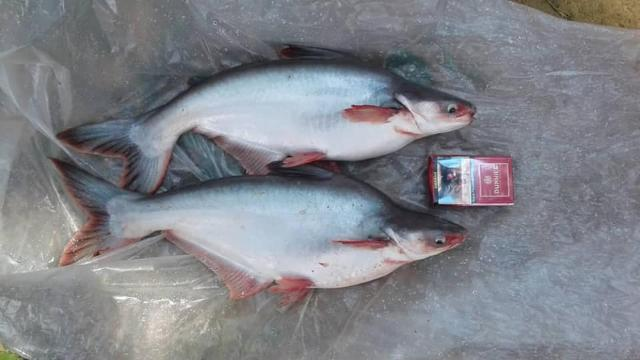Mulut: (435, 92, 499, 136), (422, 217, 476, 263)
Sirip Anal: (162, 226, 274, 308), (192, 121, 290, 185)
Sirip Dada: (322, 227, 403, 271), (336, 94, 416, 134)
Sirip Ekor: (40, 148, 160, 274), (49, 96, 188, 202)
Sirip Perut: (265, 267, 327, 317), (280, 138, 348, 182)
Sirip Punggung: (251, 29, 363, 82)
